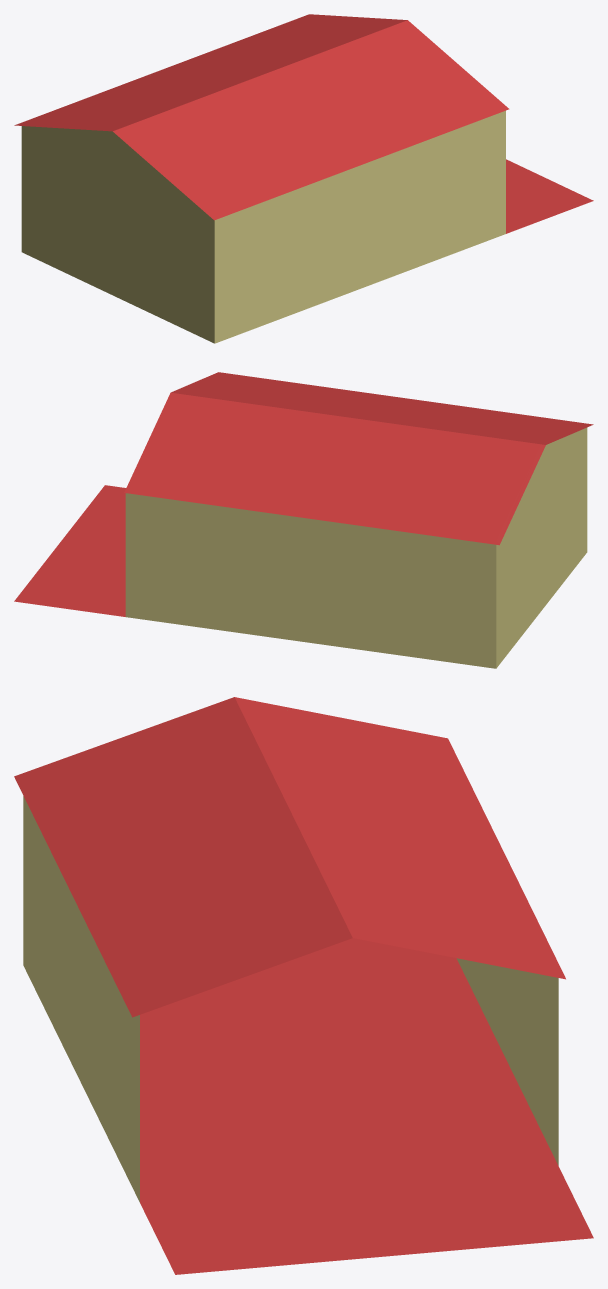
3 renders of one model, top to bottom at view 1: azimuth 30°, elevation 25°; view 2: azimuth 150°, elevation 25°; view 3: azimuth 270°, elevation 25°, orthographic. The views are drawn at different scales.
Bounding box in the file's own units: 26.26 × 18.38 × 8.61.
